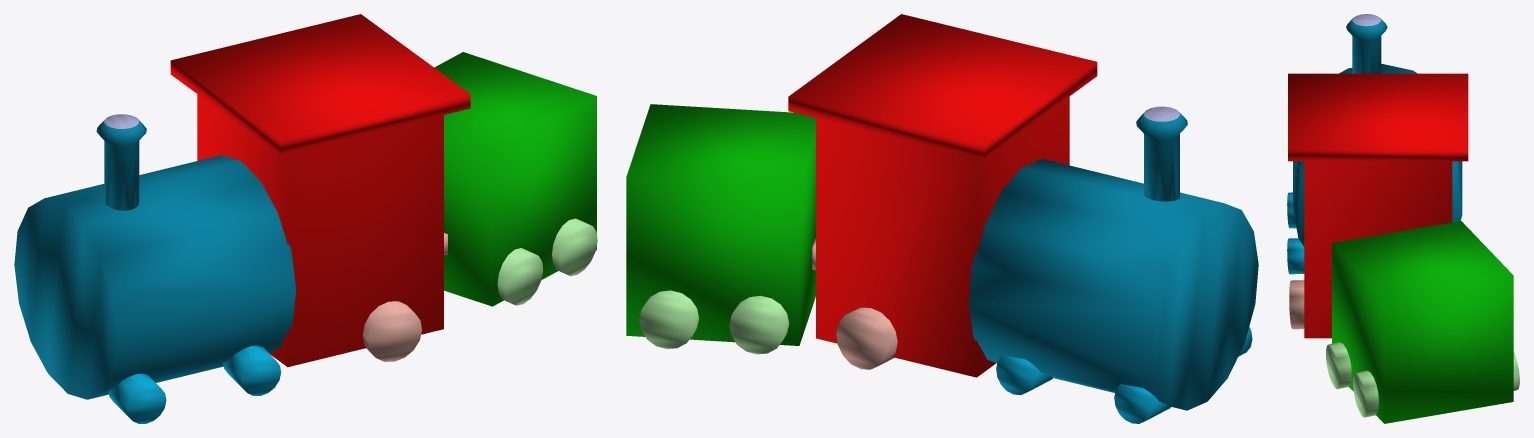
File: maquinac.gltf
The picture shows the model from 3 angles, left to right: view 1: azimuth 30°, elevation 25°; view 2: azimuth 150°, elevation 25°; view 3: azimuth 270°, elevation 25°; orthographic projection. The views are drawn at different scales.
Parts seen in each view (by area): view 1: Cylinder587; view 2: Cylinder587; view 3: Cylinder587.
Boxes of the visible parts, bbox=[...] form: Cylinder587: bbox=[14, 14, 597, 423]; Cylinder587: bbox=[626, 14, 1258, 423]; Cylinder587: bbox=[1287, 14, 1519, 423].
Size of the model in its own units: 0.4894 by 0.2305 by 0.2246.
